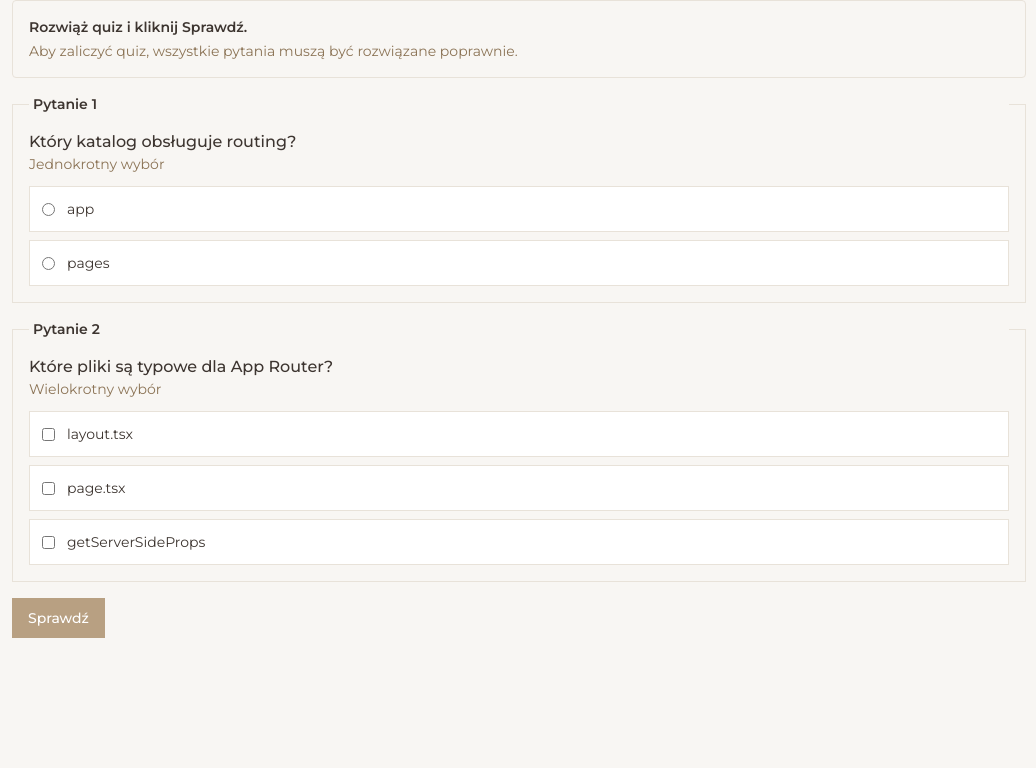
Test: QuizSection › shows per-question feedback and a detailed breakdown after a failed attempt
What coordinates should you click on to do the following:
click the radio button labelled "app"
I would click on:
 (48, 209)
Its box is [42,202,55,216].
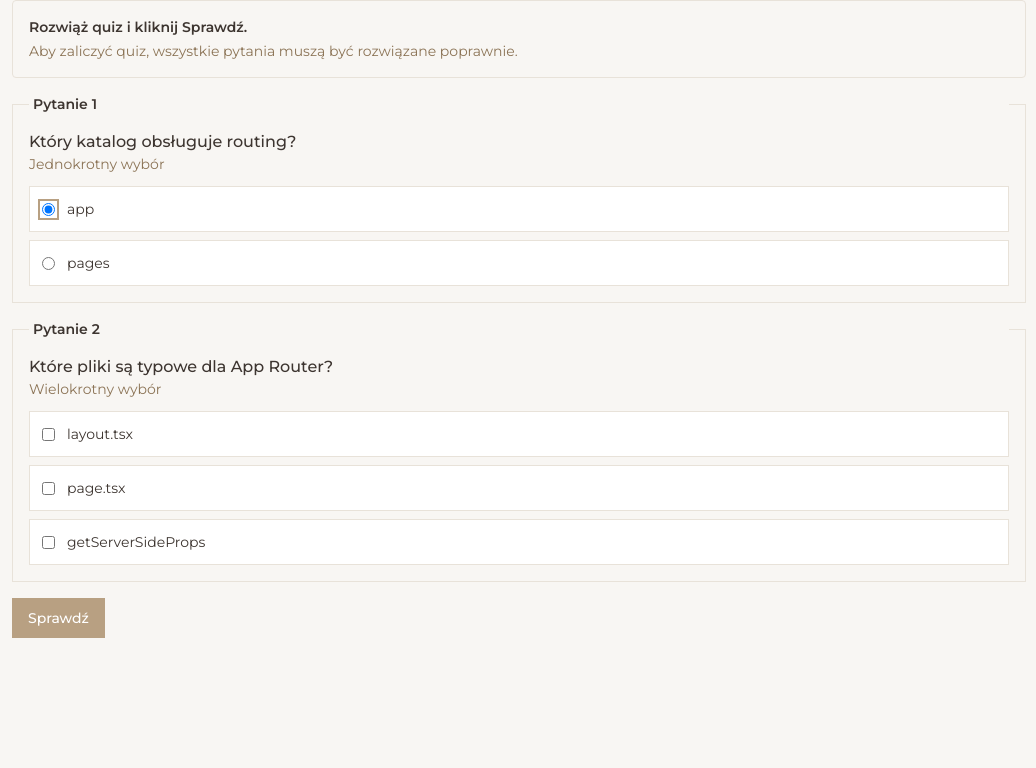
What coordinates should you click on to do the following:
click the button "Sprawdź"
I would click on:
 (58, 618)
Its box is [12,598,105,638].
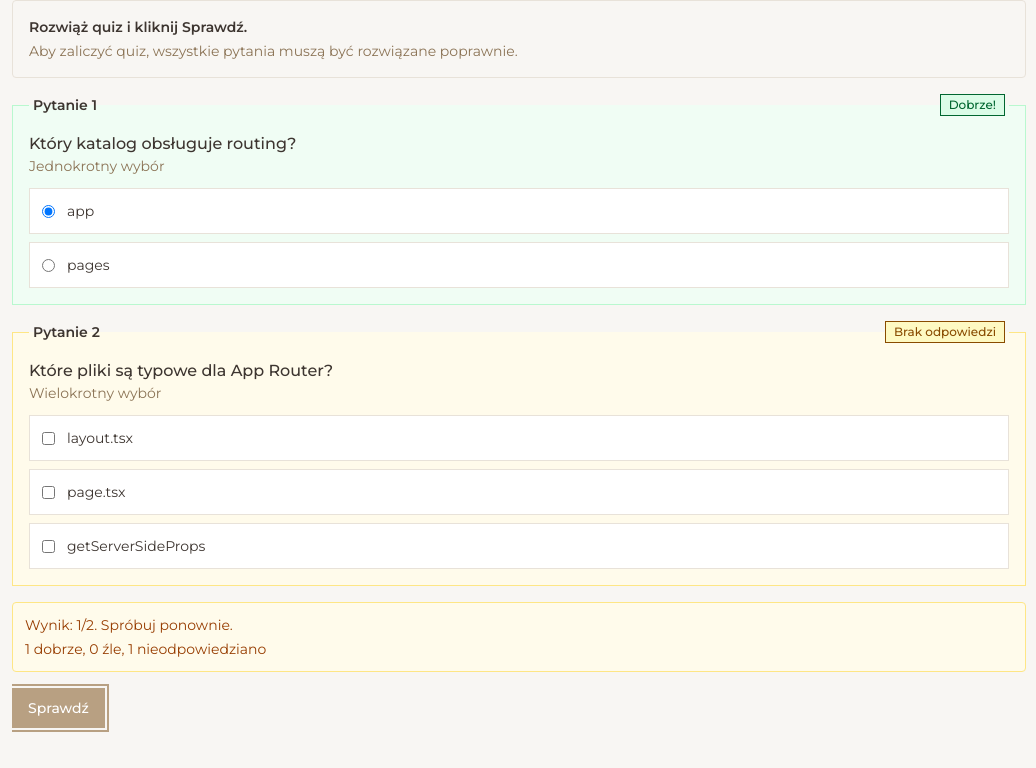
Expected: the message shows "Wynik: 1/2. Spróbuj ponownie.", [25,616,233,634]
Expected: the message shows "1 dobrze, 0 źle, 1 nieodpowiedziano", [25,640,266,658]
Expected: the text "Dobrze!" is shown, [940,94,1005,116]
